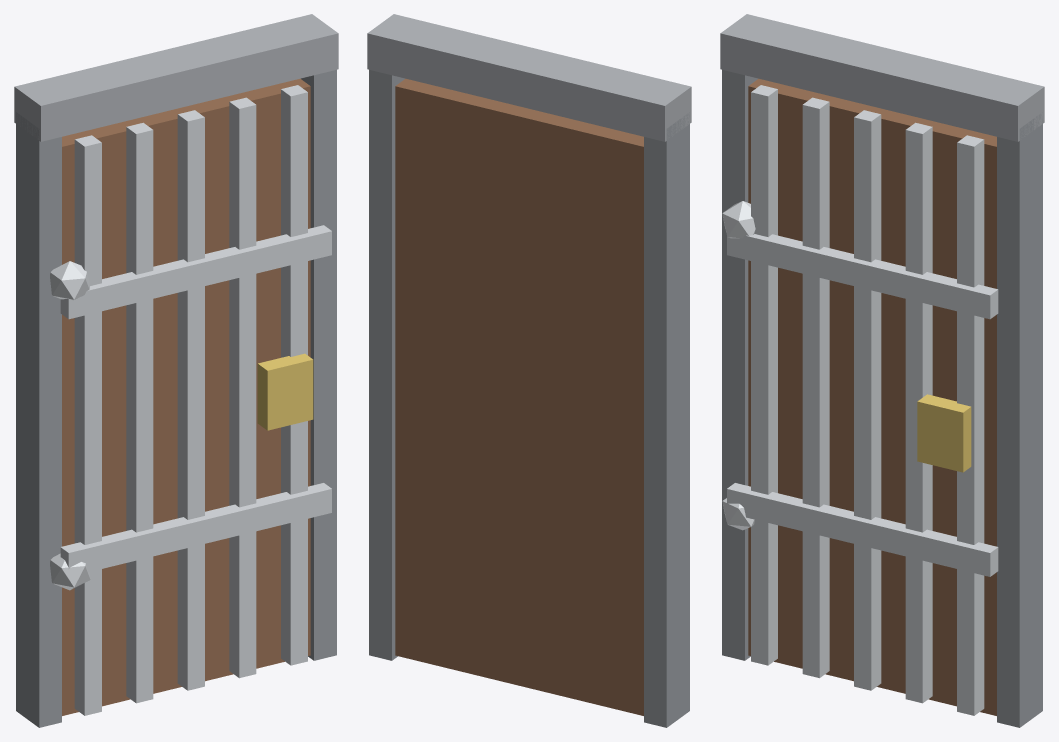
File: barred_door.glb
3 renders of one model, left to right at view 1: azimuth 30°, elevation 25°; view 2: azimuth 150°, elevation 25°; view 3: azimuth 330°, elevation 25°, orthographic.
Parts seen in each view (by area): view 1: leaf, jamb_0, lintel, bar_3.001, bar_1.001, bar_2.001, jamb_1, bar_0.001, bar_4.001, brace_0, brace_1, lock.001 (+2 smaller); view 2: leaf, jamb_0, lintel, jamb_1; view 3: leaf, jamb_1, lintel, bar_1.001, bar_2.001, bar_0.001, jamb_0, bar_4.001, bar_3.001, brace_0, brace_1, lock.001 (+2 smaller).
Part boxes in pixels (left/top/right/bottom): leaf: left=62, top=78, right=310, bottom=715; jamb_0: left=16, top=112, right=61, bottom=727; lintel: left=14, top=14, right=338, bottom=141; bar_3.001: left=229, top=97, right=256, bottom=678; bar_1.001: left=126, top=122, right=153, bottom=703; bar_2.001: left=177, top=110, right=204, bottom=690; jamb_1: left=301, top=69, right=336, bottom=660; bar_0.001: left=74, top=135, right=101, bottom=715; bar_4.001: left=281, top=85, right=307, bottom=665; brace_0: left=60, top=483, right=331, bottom=572; brace_1: left=60, top=225, right=331, bottom=319; lock.001: left=257, top=353, right=313, bottom=430; leaf: left=395, top=78, right=643, bottom=715; jamb_0: left=644, top=112, right=689, bottom=727; lintel: left=367, top=14, right=691, bottom=141; jamb_1: left=369, top=69, right=404, bottom=660; leaf: left=748, top=78, right=996, bottom=715; jamb_1: left=997, top=112, right=1042, bottom=727; lintel: left=720, top=14, right=1044, bottom=141; bar_1.001: left=802, top=97, right=829, bottom=678; bar_2.001: left=854, top=110, right=881, bottom=690; bar_0.001: left=751, top=85, right=777, bottom=665; jamb_0: left=722, top=69, right=757, bottom=660; bar_4.001: left=957, top=135, right=984, bottom=715; bar_3.001: left=905, top=122, right=932, bottom=703; brace_0: left=727, top=483, right=998, bottom=576; brace_1: left=727, top=234, right=998, bottom=319; lock.001: left=917, top=394, right=971, bottom=472.
Bounding box in the file's own units: 1.04 × 2.08 × 0.25.
